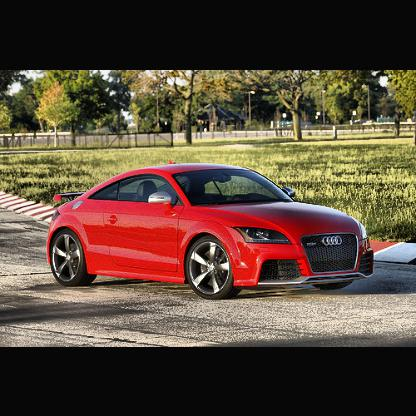Audi TT RS Coupe 2012: (47, 162, 378, 303)
